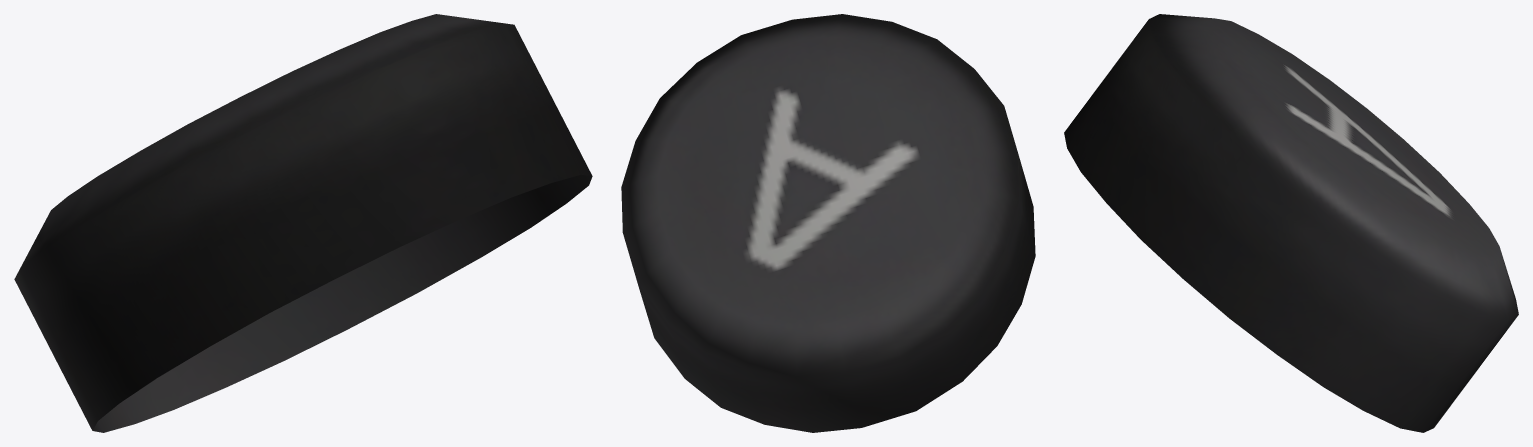
The model's file is R_lowerButton.obj.
3 renders of one model, left to right at view 1: azimuth 30°, elevation 25°; view 2: azimuth 150°, elevation 25°; view 3: azimuth 270°, elevation 25°, orthographic. The views are drawn at different scales.
Parts seen in each view (by area): view 1: R_lowerButton; view 2: R_lowerButton; view 3: R_lowerButton.
Part boxes in pixels (box(x1,y1,x2,y2)): R_lowerButton: box(14, 14, 592, 432); R_lowerButton: box(621, 14, 1035, 432); R_lowerButton: box(1064, 14, 1518, 432).
Size of the model in its own units: 0.0108 by 0.00906 by 0.00992.
Materials: 1 (1 with a texture image).
